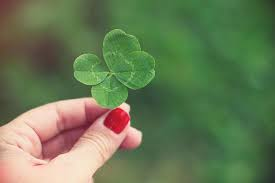4-clover: (73, 30, 155, 106)
